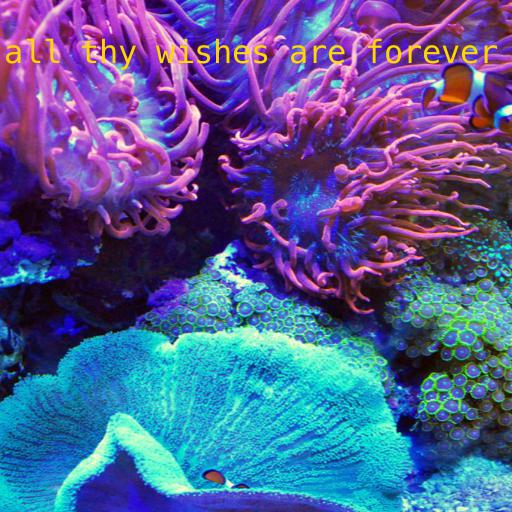Menlo: (0, 38, 512, 70)
